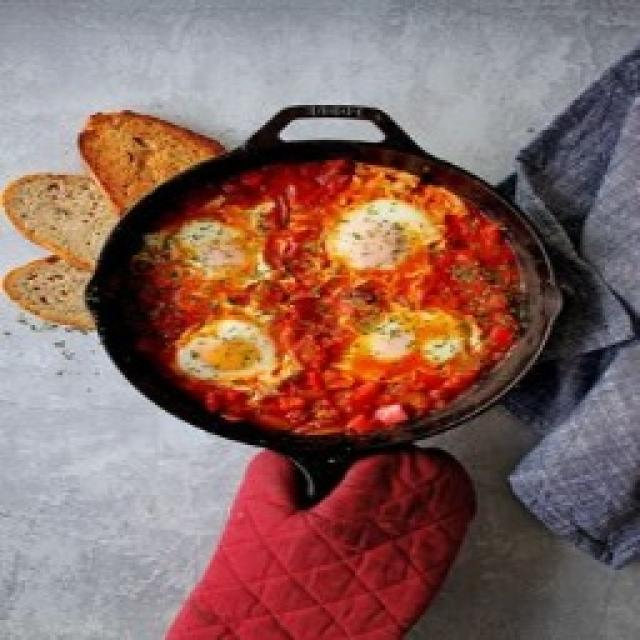Chakchouka: (82, 138, 560, 462)
